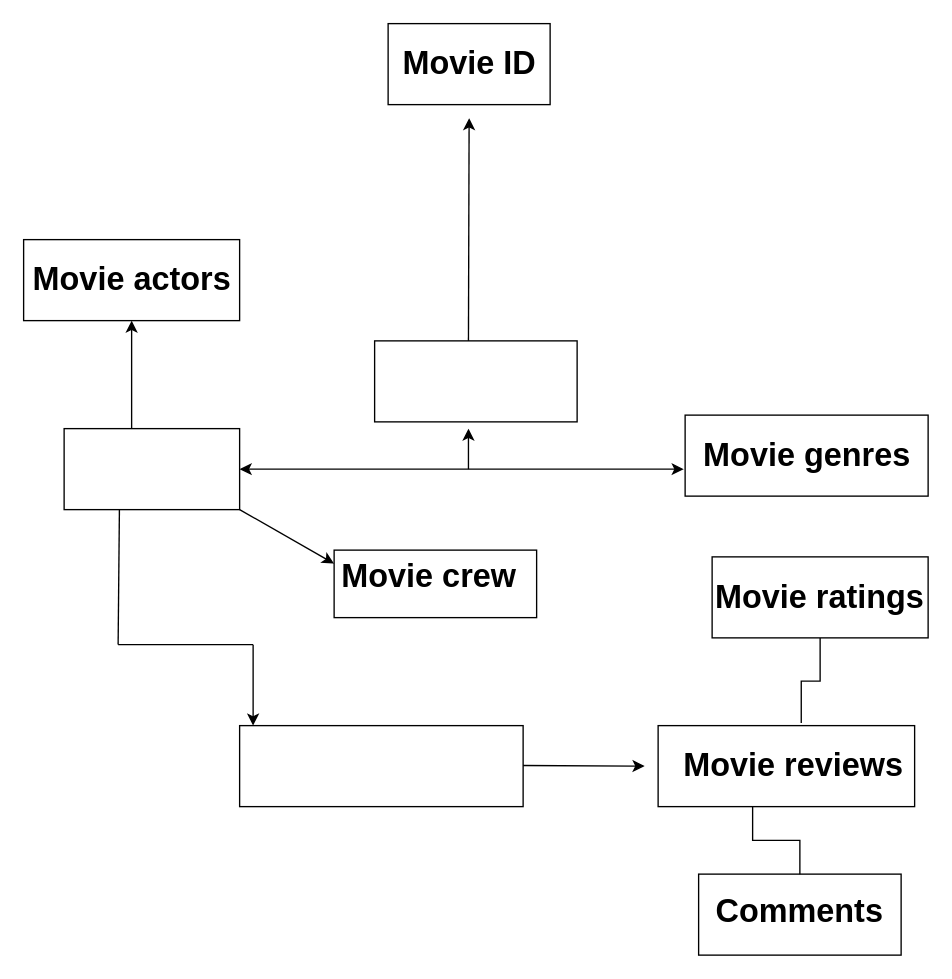
The diagram is 952 pixels wide and 979 high, and some of its shapes have lost their labels. Here are the shapes that lost their labels. From the top down, the centre of each, then its label:
the point at 475,381: Movie names
the point at 151,468: Movie API
the point at 380,765: Registered users
